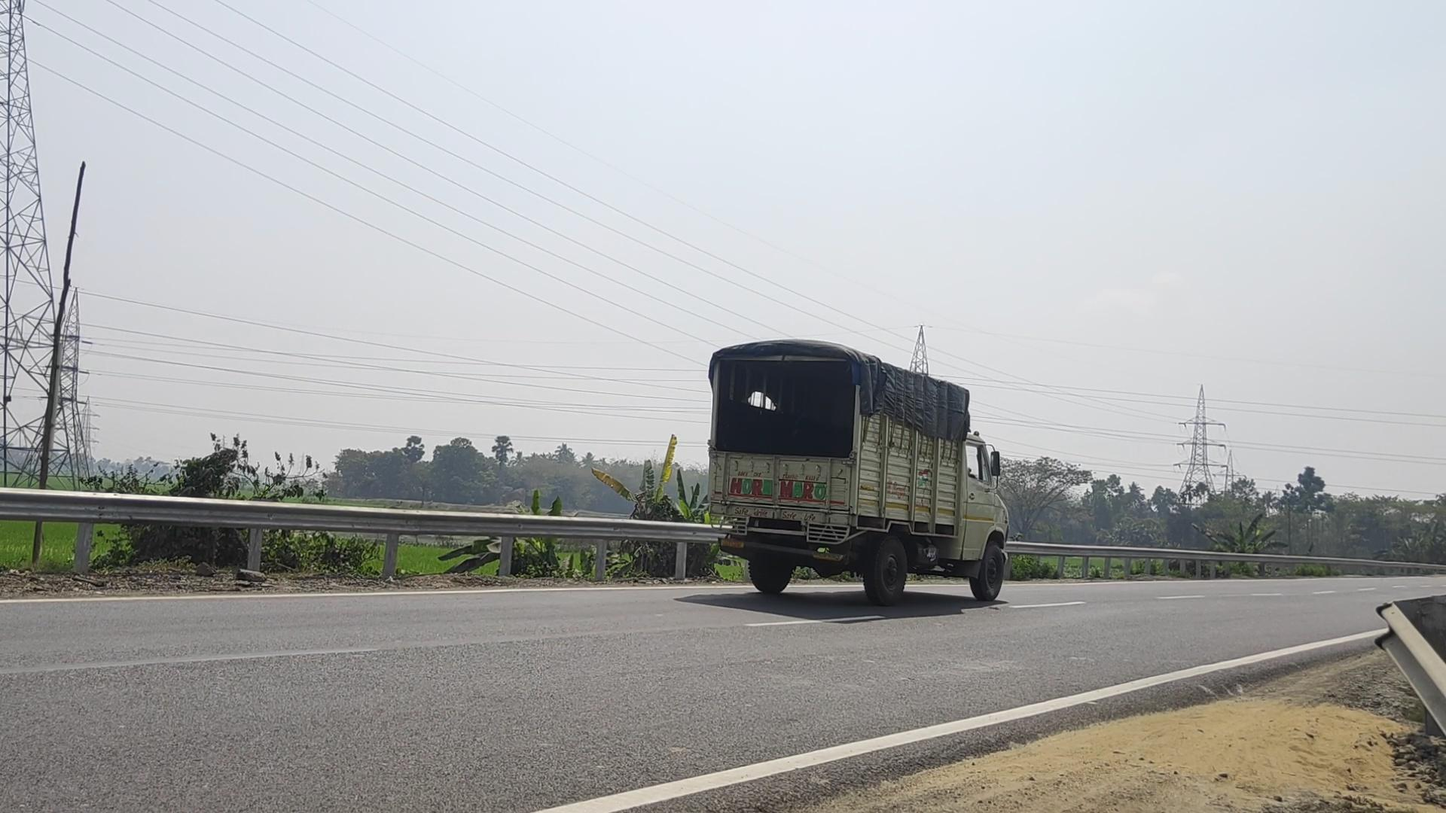truck: (707, 339, 1010, 608)
